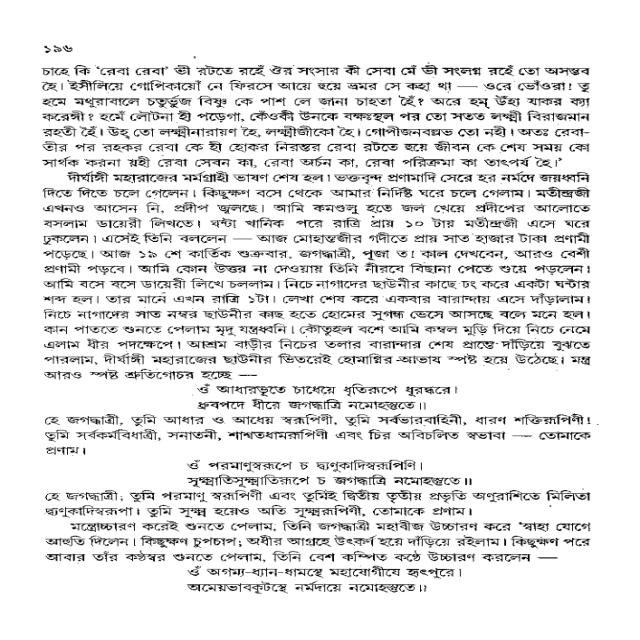page number: (40, 42, 77, 56)
paragraph: (36, 175, 596, 380), (36, 59, 594, 170), (39, 515, 599, 562), (37, 412, 595, 457), (29, 489, 600, 518), (167, 458, 484, 490), (177, 565, 471, 598), (183, 383, 465, 411)
